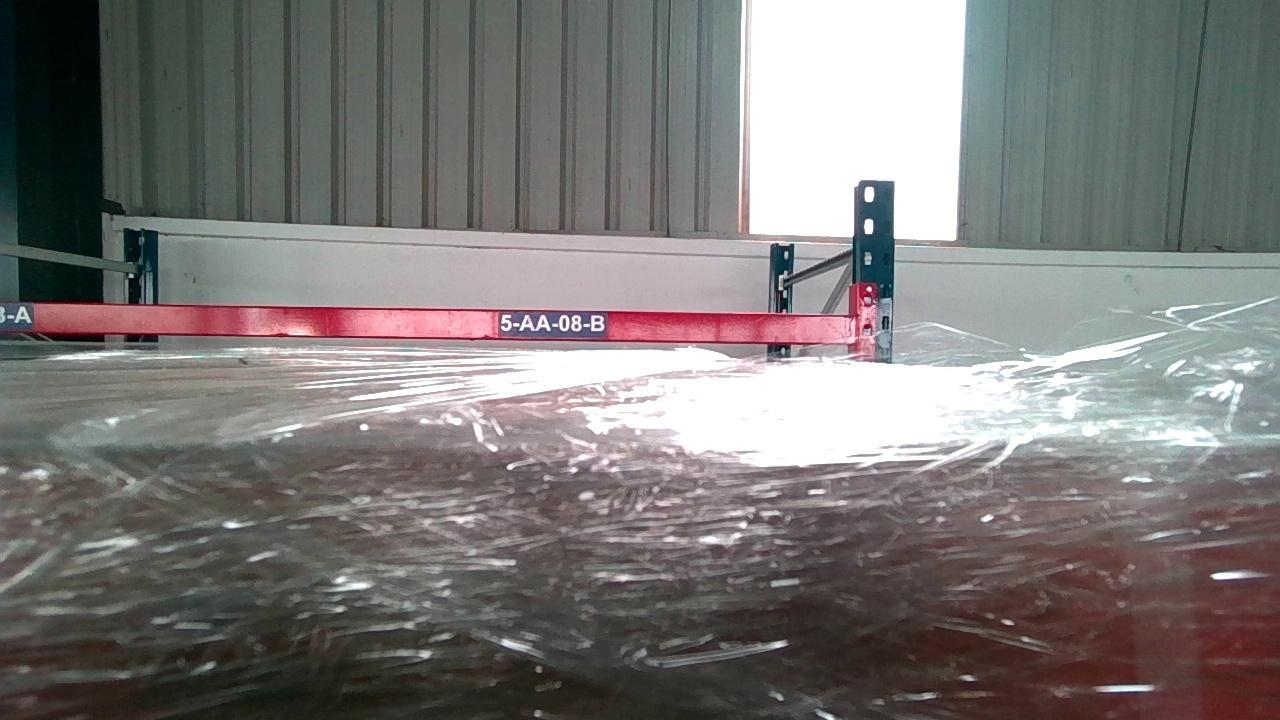h_rack: (1, 304, 856, 343)
